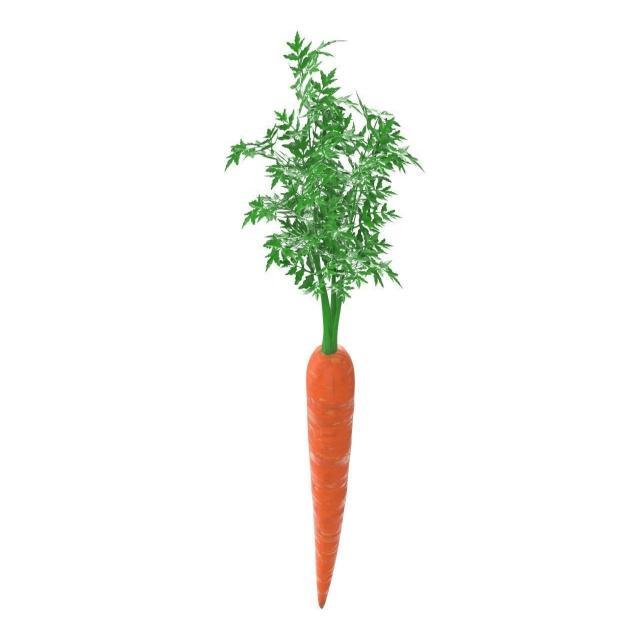carrot: (302, 327, 357, 622)
